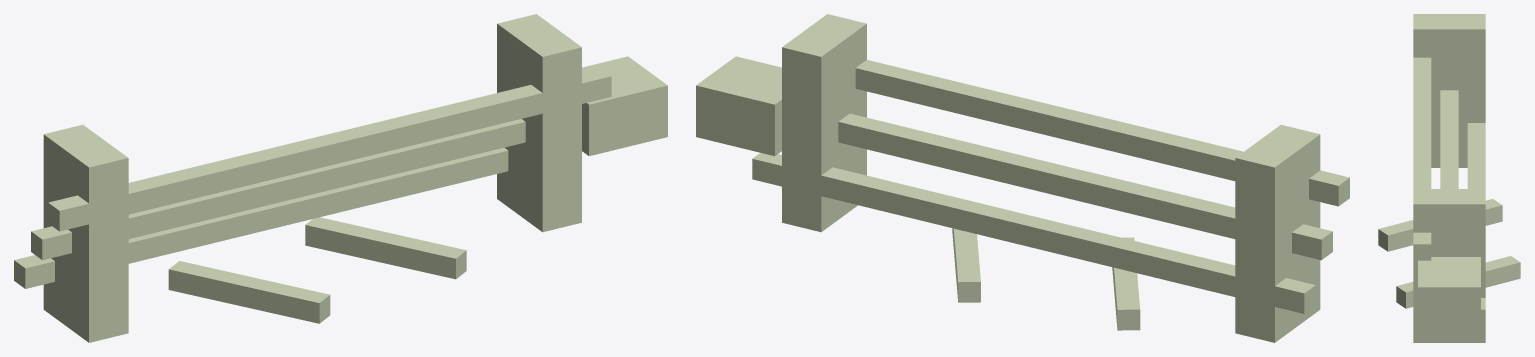
Rendered from furniture_signal_cantilever_service_conduit.glb.
The picture shows the model from 3 angles, left to right: view 1: azimuth 30°, elevation 25°; view 2: azimuth 150°, elevation 25°; view 3: azimuth 270°, elevation 25°; orthographic projection. The views are drawn at different scales.
Parts seen in each view (by area): view 1: conduit_upper, clamp_left, clamp_right, conduit_mid, conduit_lower, service_cap, drop_left, drop_right; view 2: conduit_lower, clamp_left, clamp_right, conduit_mid, conduit_upper, service_cap, drop_right, drop_left; view 3: clamp_left, clamp_right, service_cap, conduit_upper, conduit_mid, conduit_lower, drop_right, drop_left.
Part boxes in pixels (x1,y1,x2,y2): conduit_upper: (48, 68, 611, 231); clamp_left: (43, 124, 128, 342); clamp_right: (497, 14, 581, 232); conduit_mid: (31, 119, 525, 260); conduit_lower: (14, 147, 508, 288); service_cap: (582, 56, 667, 156); drop_left: (168, 261, 330, 323); drop_right: (305, 217, 466, 279); conduit_lower: (752, 153, 1315, 313); clamp_left: (1235, 124, 1320, 342); clamp_right: (782, 14, 866, 232); conduit_mid: (838, 113, 1332, 260); conduit_upper: (855, 60, 1349, 206); service_cap: (696, 56, 781, 156); drop_right: (952, 228, 980, 302); drop_left: (1112, 237, 1140, 330); clamp_left: (1413, 14, 1485, 167); clamp_right: (1413, 189, 1485, 342); service_cap: (1418, 257, 1480, 328); conduit_upper: (1413, 57, 1431, 260); conduit_mid: (1440, 90, 1458, 188); conduit_lower: (1467, 123, 1485, 325); drop_right: (1396, 256, 1520, 308); drop_left: (1378, 199, 1502, 251).
Size of the model in its own units: 1.24 by 0.37 by 0.3156.
